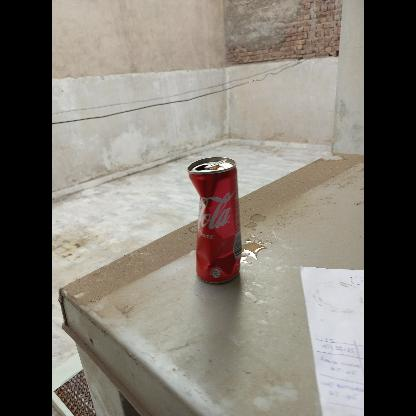Dent_Can: (190, 172, 242, 281)
Lid_Open: (193, 156, 227, 172)
Tin_Can: (184, 153, 246, 285)
